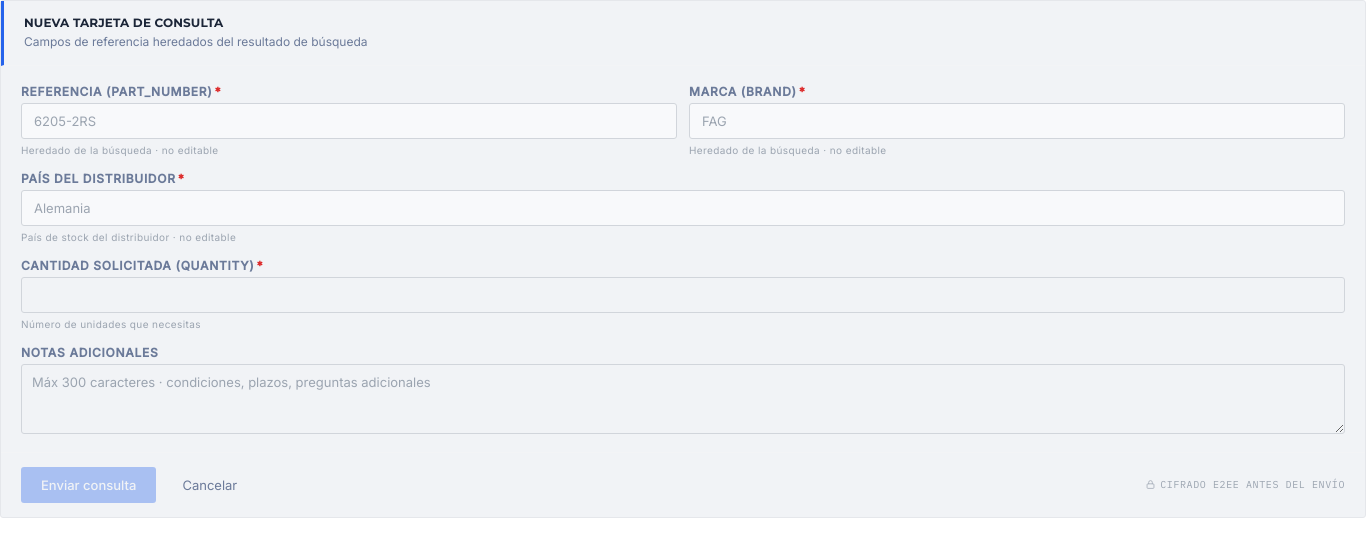
MSG-03 · formulario de consulta · cuándo se puede enviar › con una cantidad válida se habilita
The image size is (1366, 535).
Type "300" into the number field labelled "Cantidad solicitada (quantity)" at (683, 295), box top-left (21, 277), bottom-right (1345, 313)
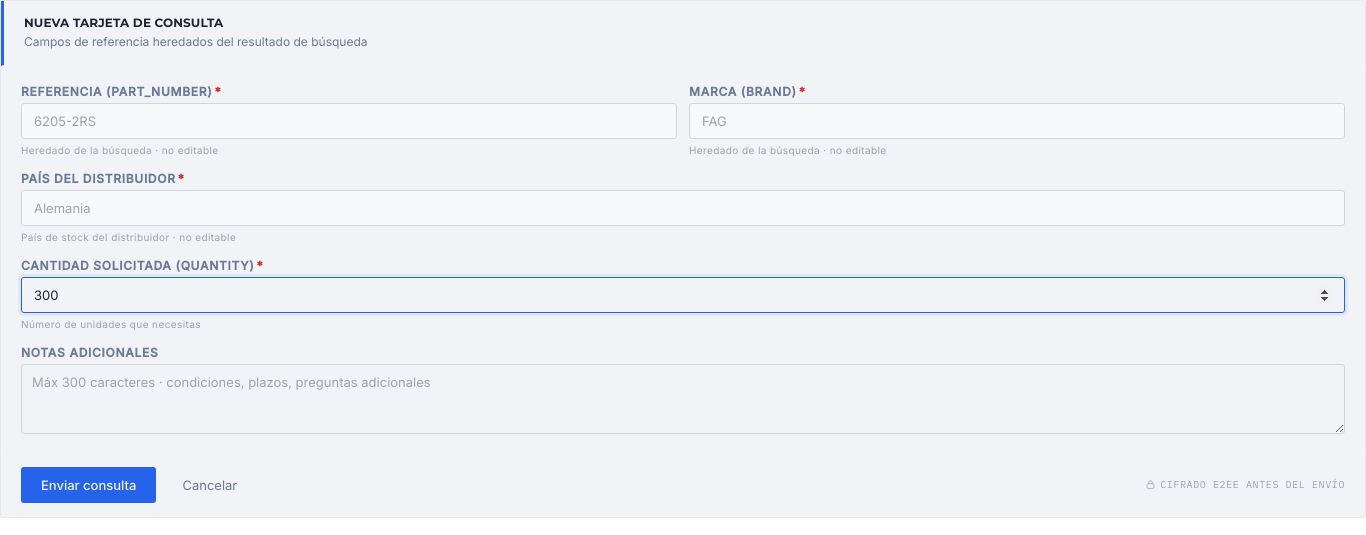
Result: the button "Enviar consulta" is enabled at top-left (21, 467), bottom-right (156, 503)
